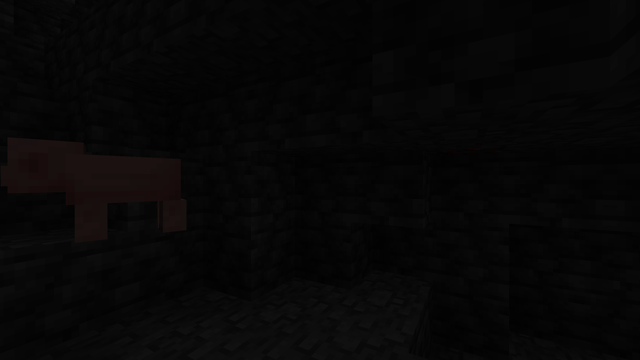cochons: (61, 150, 185, 245)
